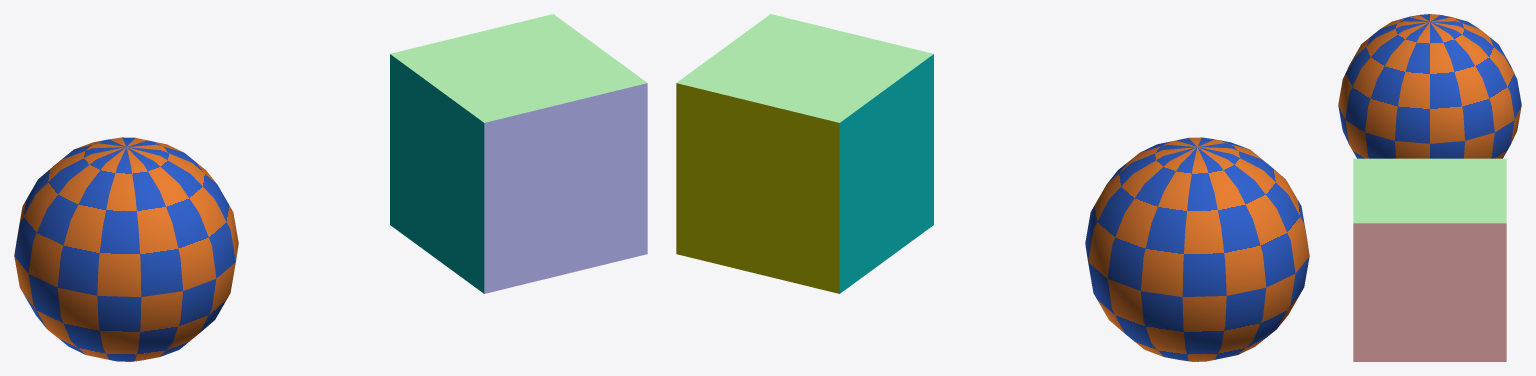
3 views of the same model, side by side, from view 1: azimuth 30°, elevation 25°; view 2: azimuth 150°, elevation 25°; view 3: azimuth 270°, elevation 25° (orthographic). The views are drawn at different scales.
Parts seen in each view (by area): view 1: Box, Ball; view 2: Box, Ball; view 3: Box, Ball.
Boxes of the visible parts, <box> form: Box: <box>390,14,647,293</box>; Ball: <box>14,137,238,361</box>; Box: <box>676,14,933,293</box>; Ball: <box>1085,137,1309,361</box>; Box: <box>1353,158,1506,361</box>; Ball: <box>1338,14,1521,158</box>.
Bounding box in the file's own units: 3.5 × 1.2 × 1.2.
Materials: 2 (1 with a texture image).
